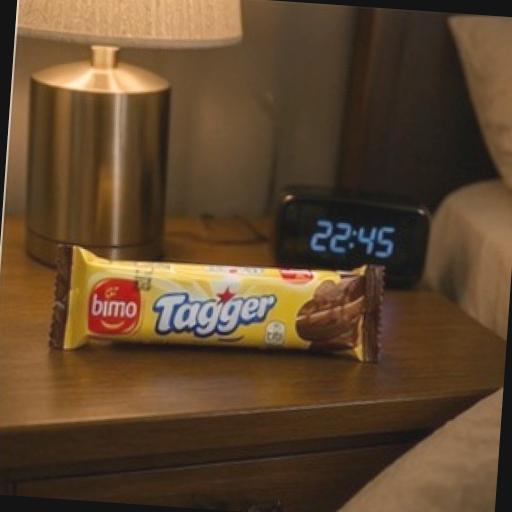tagger: (32, 194, 440, 426)
